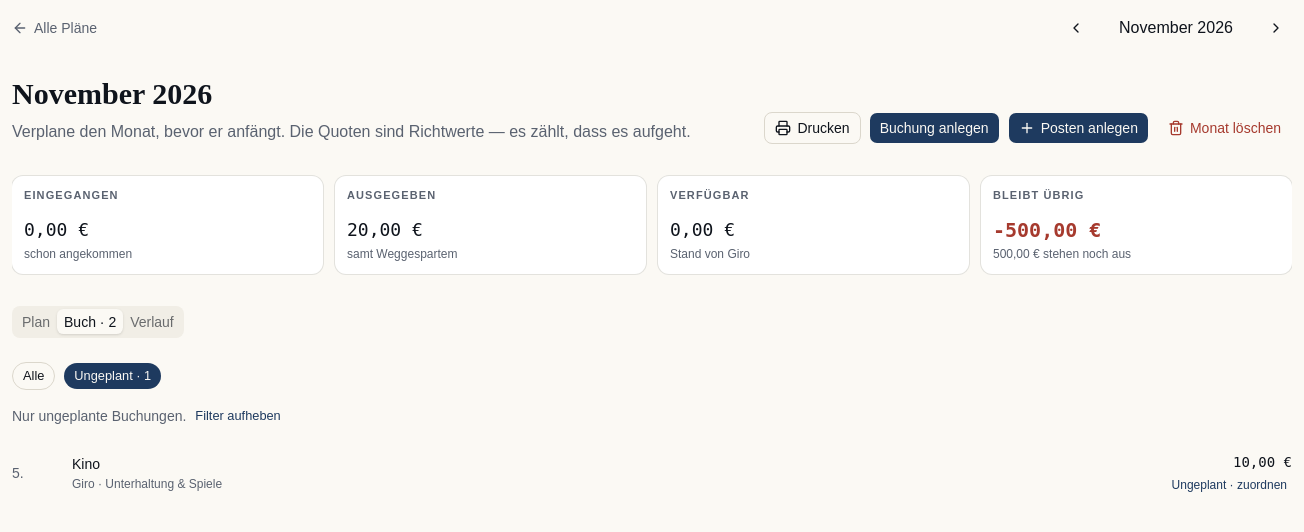
Scenario: PlanDetailPage — the book as a tab (#241) › the filter lives in the address: ?filter=unplanned shows the unplanned only
This screenshot has width=1304, height=532.
Expected: the button "5. Kino Giro · Unterhaltung & Spiele" is shown, [12, 454, 1155, 492]
Expected: the button "Miete Nov" is not shown
Click the button "Alle".
click(34, 376)  # box [12, 362, 55, 390]
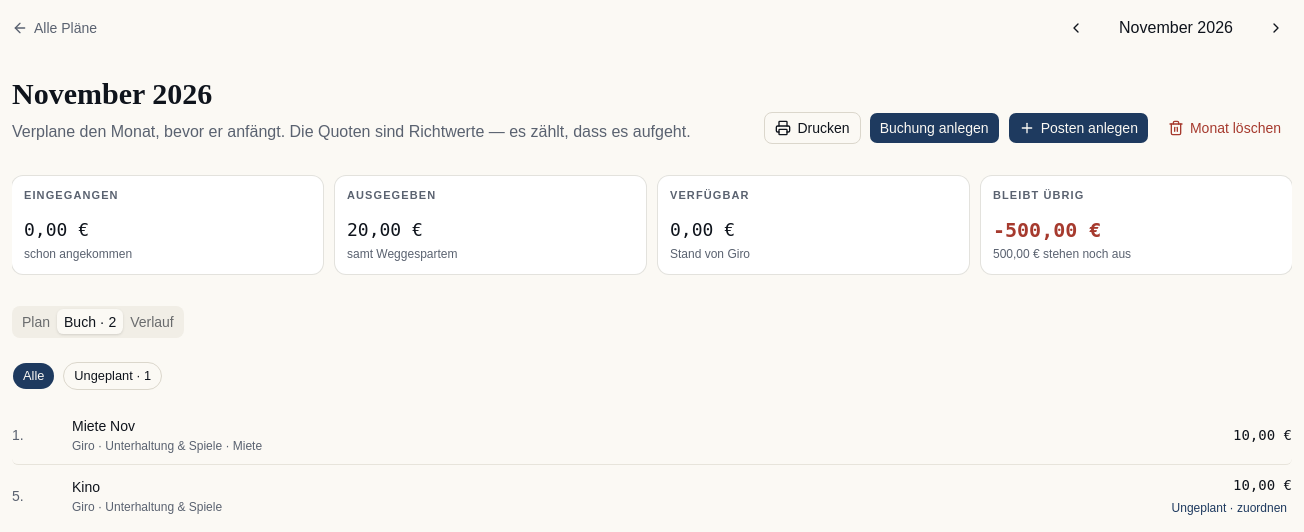
Result: the button "1. Miete Nov Giro · Unterhaltung & Spiele · Miete" is shown at [12, 416, 1221, 454]
